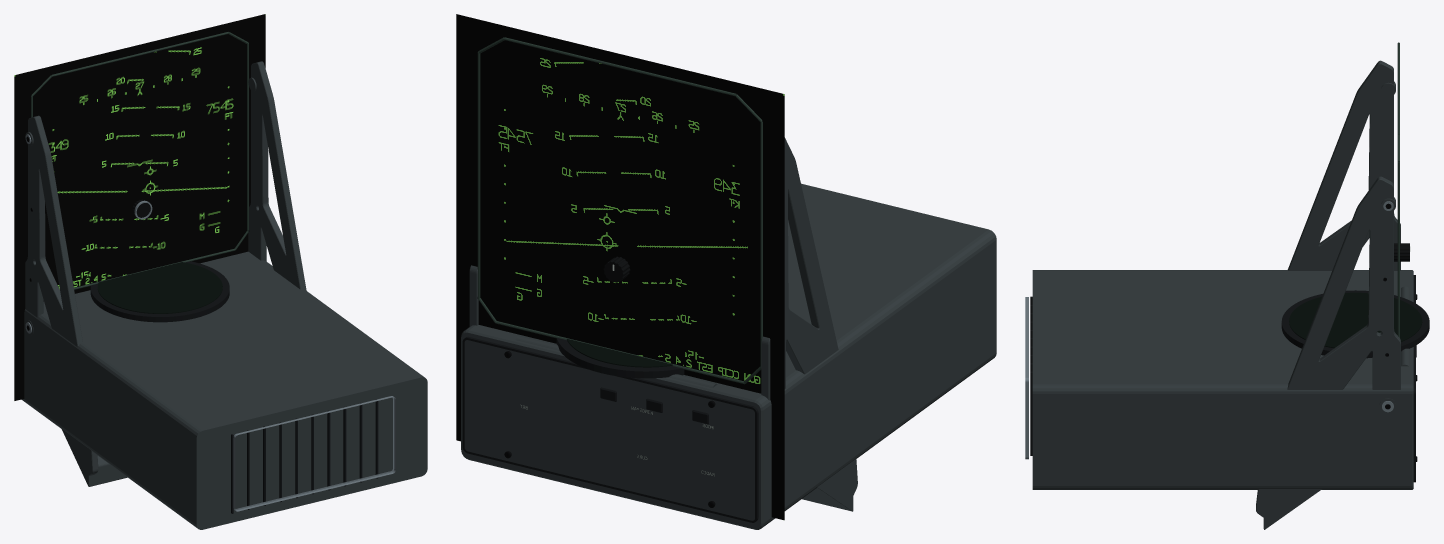
The model's file is MFDStudio.obj.
The picture shows the model from 3 angles, left to right: view 1: azimuth 30°, elevation 25°; view 2: azimuth 150°, elevation 25°; view 3: azimuth 270°, elevation 25°; orthographic projection. The views are drawn at different scales.
Visible parts, largest first — view 1: MFDStudioBody, MFDStudioScreen, MFDStudioCombinerFrame; view 2: MFDStudioScreen, MFDStudioBody, MFDStudioCombinerFrame; view 3: MFDStudioBody, MFDStudioCombinerFrame.
Boxes of the visible parts, x1,y1,x2,y2 form: MFDStudioBody: (21, 251, 427, 529); MFDStudioScreen: (14, 14, 265, 400); MFDStudioCombinerFrame: (25, 32, 306, 486); MFDStudioScreen: (456, 14, 784, 520); MFDStudioBody: (461, 183, 996, 529); MFDStudioCombinerFrame: (469, 37, 857, 511); MFDStudioBody: (1025, 270, 1429, 489); MFDStudioCombinerFrame: (1256, 42, 1400, 529).
Bounding box in the file's own units: 0.25 × 0.3502 × 0.3279.
Materials: 11 (1 with a texture image).
